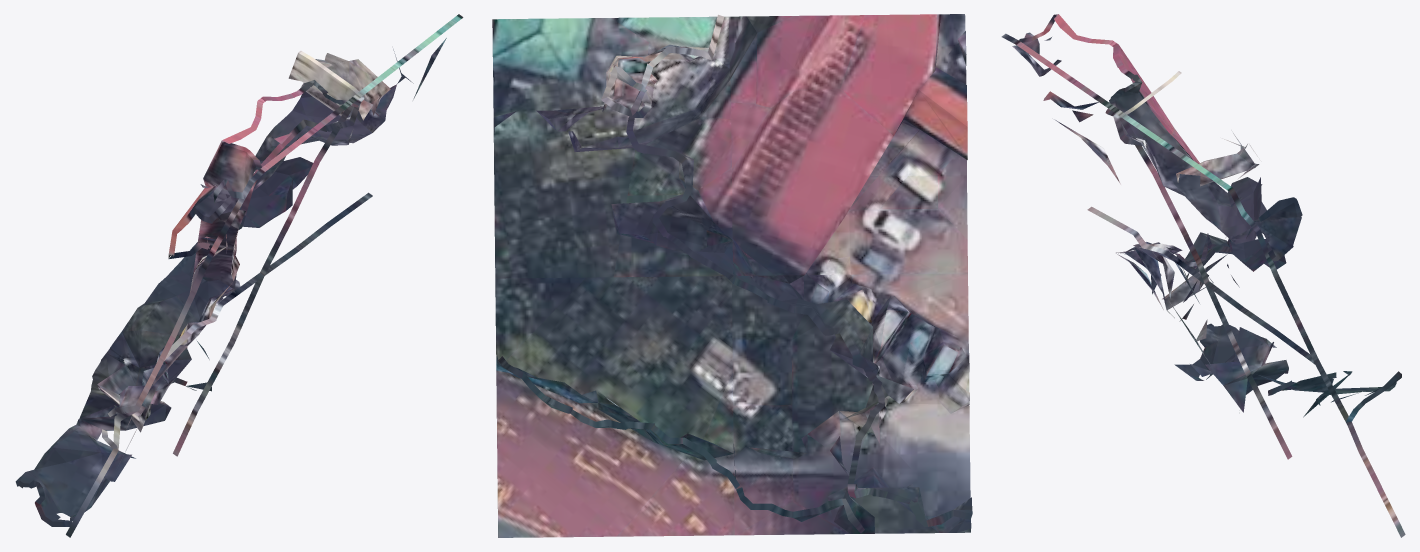
3 renders of one model, left to right at view 1: azimuth 30°, elevation 25°; view 2: azimuth 150°, elevation 25°; view 3: azimuth 270°, elevation 25°, orthographic. The views are drawn at different scales.
Size of the model in its own units: 40.6 by 37.22 by 32.34.
2 materials, 2 textured.
